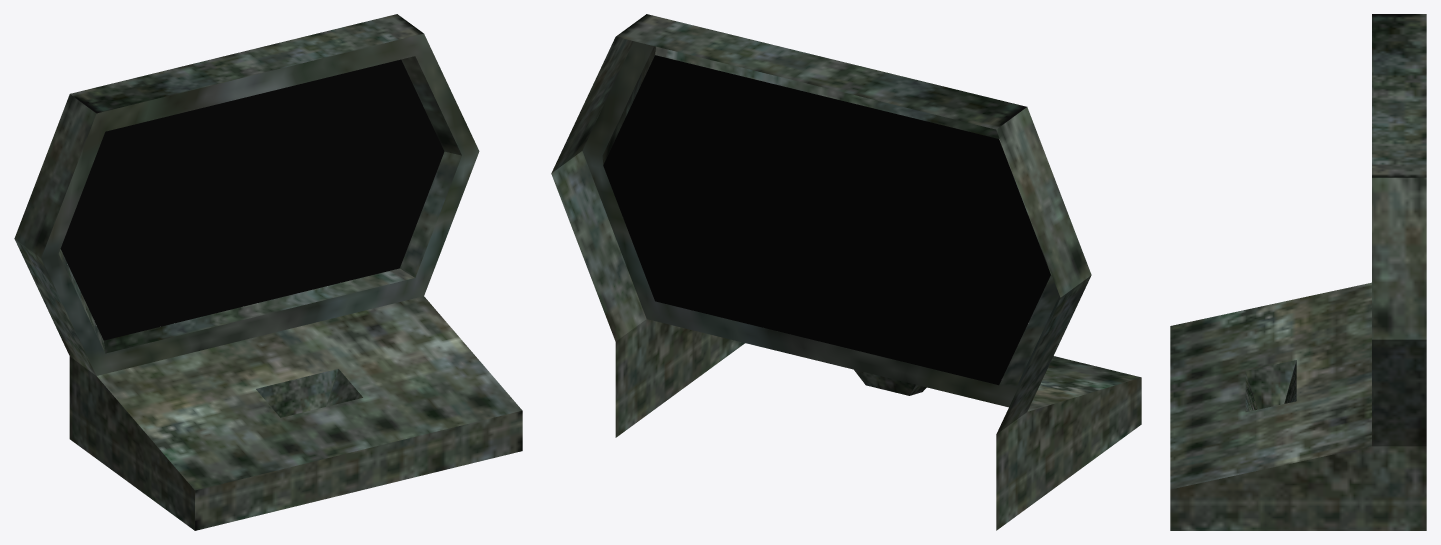
Rendered from DNATester.glb.
The picture shows the model from 3 angles, left to right: view 1: azimuth 30°, elevation 25°; view 2: azimuth 150°, elevation 25°; view 3: azimuth 270°, elevation 25°; orthographic projection. The views are drawn at different scales.
Visible parts, largest first — view 1: Cube; view 2: Cube; view 3: Cube.
Boxes of the visible parts, bbox=[...] form: Cube: bbox=[14, 14, 522, 530]; Cube: bbox=[551, 14, 1141, 530]; Cube: bbox=[1170, 14, 1426, 530].
Size of the model in its own units: 5.14 by 3.87 by 2.54.
2 materials, 1 textured.
